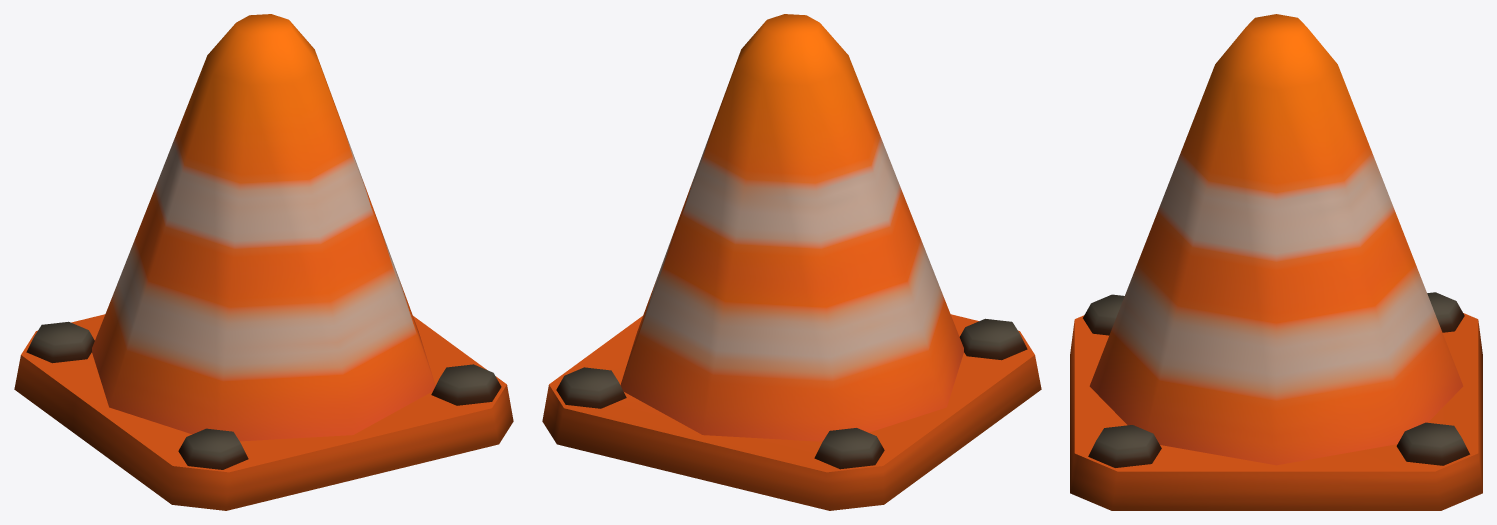
The model's file is orange cone.fbx.
3 views of the same model, side by side, from view 1: azimuth 30°, elevation 25°; view 2: azimuth 150°, elevation 25°; view 3: azimuth 270°, elevation 25° (orthographic). The views are drawn at different scales.
Visible parts, largest first — view 1: Cone3; view 2: Cone3; view 3: Cone3.
Boxes of the visible parts, <box> form: Cone3: <box>14,14,513,510</box>; Cone3: <box>542,14,1041,510</box>; Cone3: <box>1070,14,1482,510</box>.
Size of the model in its own units: 16.47 by 17.48 by 16.47.
